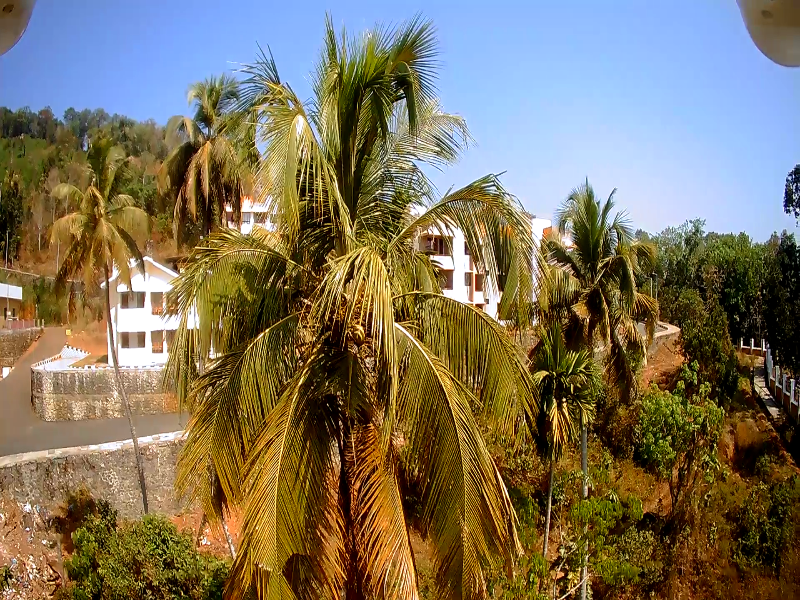coconut: (348, 324, 363, 341)
